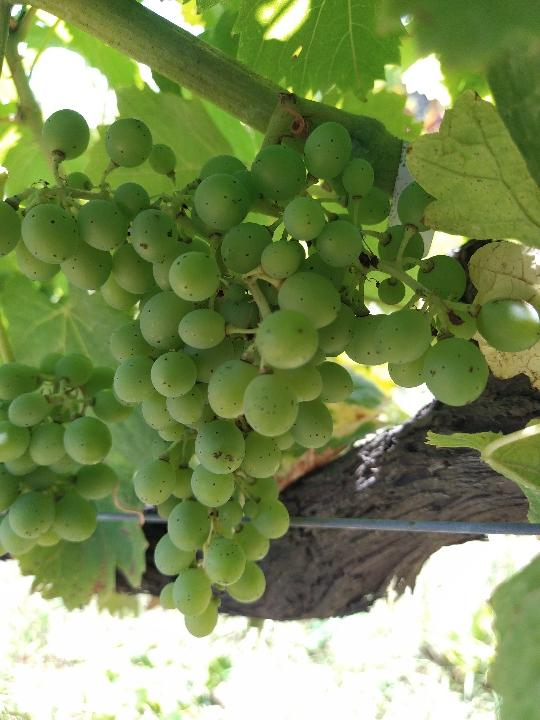grape: (7, 108, 536, 638)
